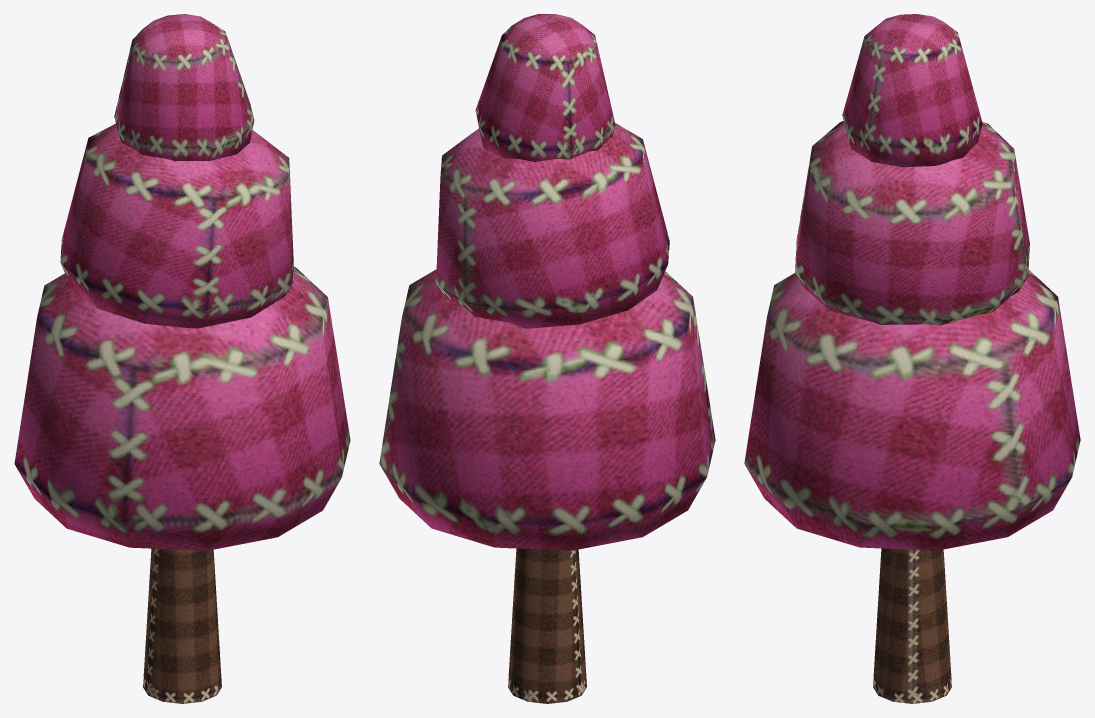
File: lpb_cs_tree3.fbx
The picture shows the model from 3 angles, left to right: view 1: azimuth 30°, elevation 25°; view 2: azimuth 150°, elevation 25°; view 3: azimuth 270°, elevation 25°; orthographic projection.
Parts seen in each view (by area): view 1: lpb_cs_tree3; view 2: lpb_cs_tree3; view 3: lpb_cs_tree3.
Boxes of the visible parts, x1=… form: lpb_cs_tree3: x1=14, y1=14, x2=350, y2=703; lpb_cs_tree3: x1=379, y1=14, x2=715, y2=703; lpb_cs_tree3: x1=744, y1=14, x2=1080, y2=703.
Size of the model in its own units: 89.5 by 195 by 89.5.
